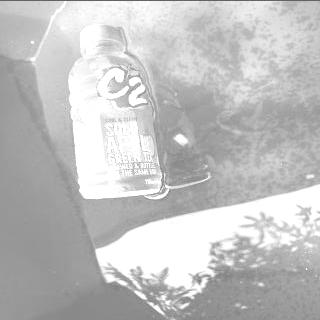bottle: (66, 23, 164, 199)
